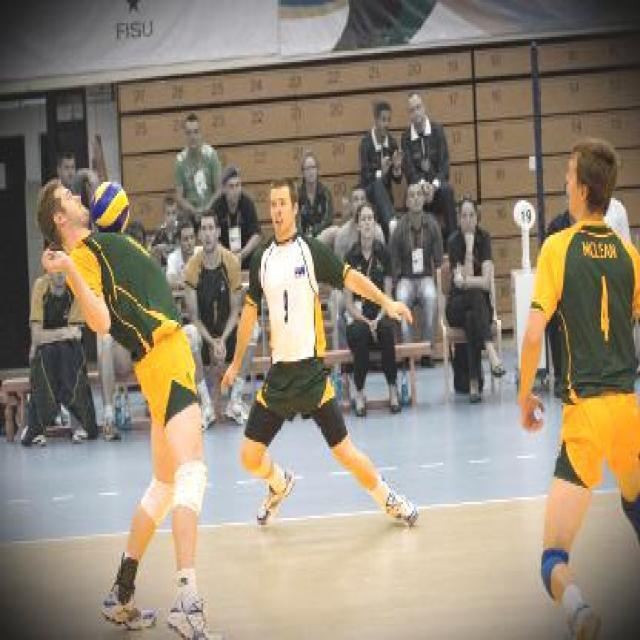volleyball: (92, 180, 130, 234)
